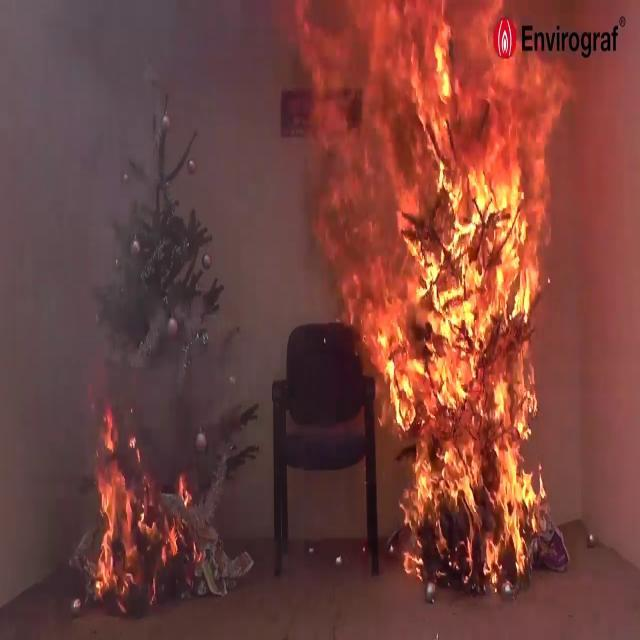Fire: (299, 0, 565, 563), (68, 422, 222, 624)
Smoke: (0, 0, 268, 449)
